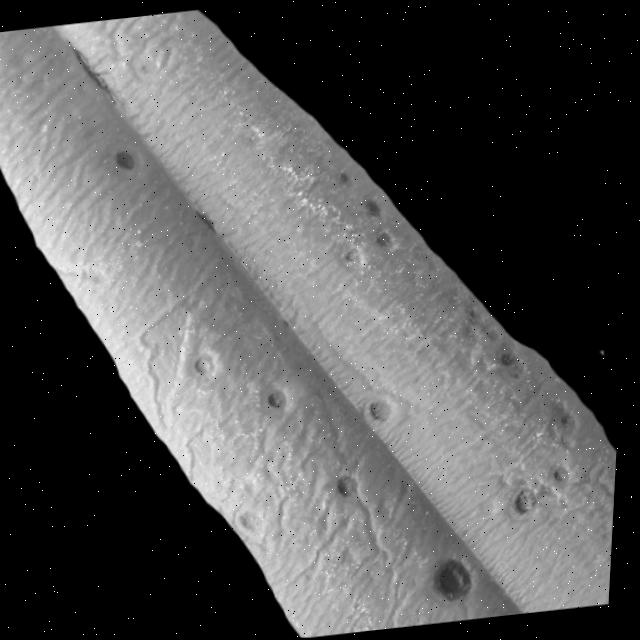mite: (178, 293, 590, 639), (308, 158, 411, 284), (339, 189, 407, 276), (509, 459, 582, 524), (253, 373, 306, 429), (99, 134, 153, 188), (364, 389, 405, 435), (515, 485, 547, 521), (241, 505, 272, 540), (372, 395, 399, 425), (196, 351, 222, 381), (114, 146, 139, 173), (499, 346, 524, 371), (376, 227, 400, 253), (555, 461, 579, 486), (364, 194, 387, 220), (270, 387, 293, 412), (344, 245, 366, 268), (337, 167, 355, 189)
sunburn: (434, 553, 486, 610)
